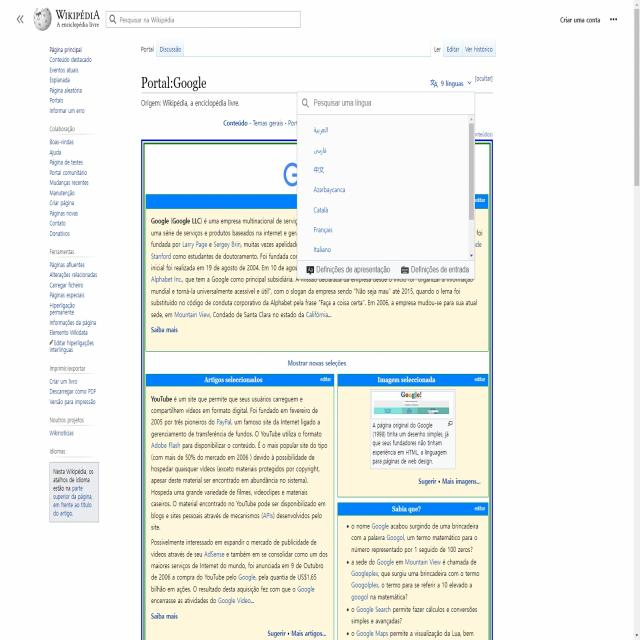search: (295, 87, 477, 117), (104, 7, 302, 30)
side-panel: (36, 39, 120, 539)
